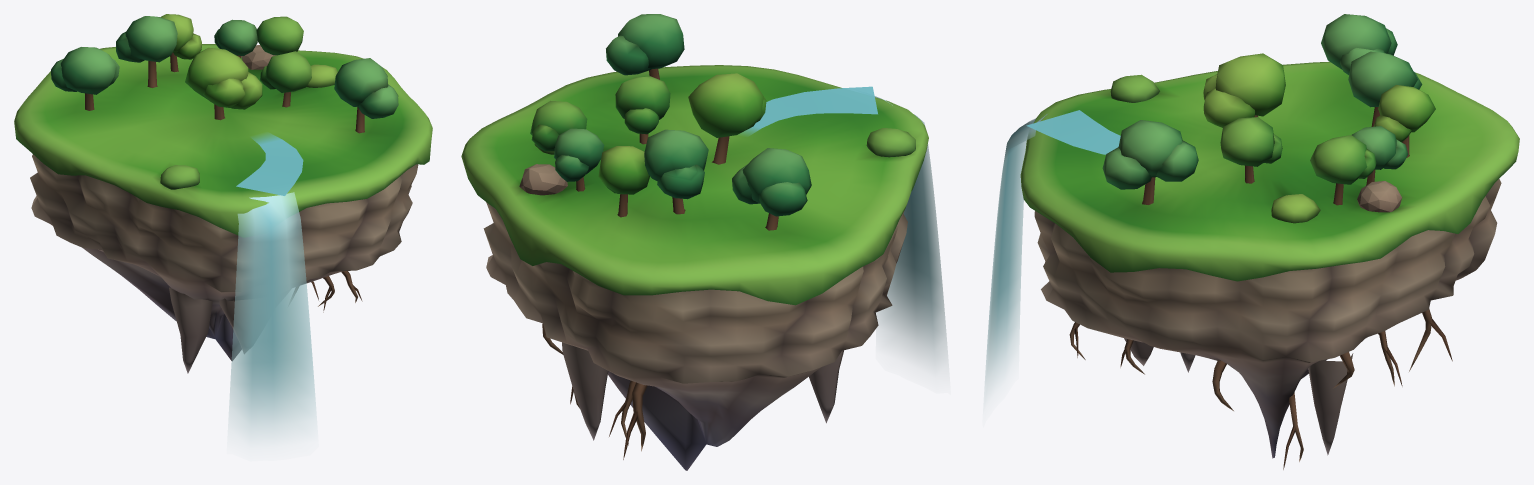
The model's file is island_a.glb.
3 views of the same model, side by side, from view 1: azimuth 30°, elevation 25°; view 2: azimuth 150°, elevation 25°; view 3: azimuth 270°, elevation 25° (orthographic). The views are drawn at different scales.
Visible parts, largest first — view 1: IslandA, IslandA_water; view 2: IslandA, IslandA_water; view 3: IslandA, IslandA_water.
Boxes of the visible parts, left/top/right/bottom form: IslandA: left=14, top=14, right=432, bottom=373; IslandA_water: left=228, top=133, right=316, bottom=438; IslandA: left=461, top=14, right=928, bottom=470; IslandA_water: left=740, top=86, right=947, bottom=366; IslandA: left=1020, top=14, right=1519, bottom=469; IslandA_water: left=985, top=110, right=1120, bottom=396.
Size of the model in its own units: 26.03 by 23.97 by 29.78.
